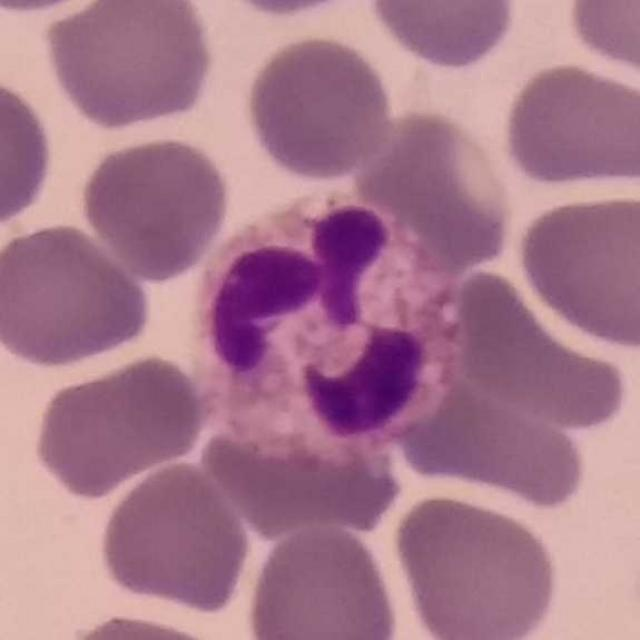Neutrophil: (184, 180, 450, 463)
RBC: (445, 260, 631, 436), (352, 105, 516, 275), (402, 368, 590, 514), (28, 349, 208, 500), (389, 488, 563, 640), (95, 458, 254, 616), (240, 31, 398, 184), (75, 132, 234, 282), (1, 218, 154, 371), (41, 0, 218, 132), (514, 187, 640, 353), (241, 518, 404, 640), (497, 58, 639, 195), (364, 0, 522, 72), (0, 71, 58, 235), (563, 0, 640, 81), (57, 609, 247, 640), (209, 0, 375, 21), (1, 0, 126, 16)
